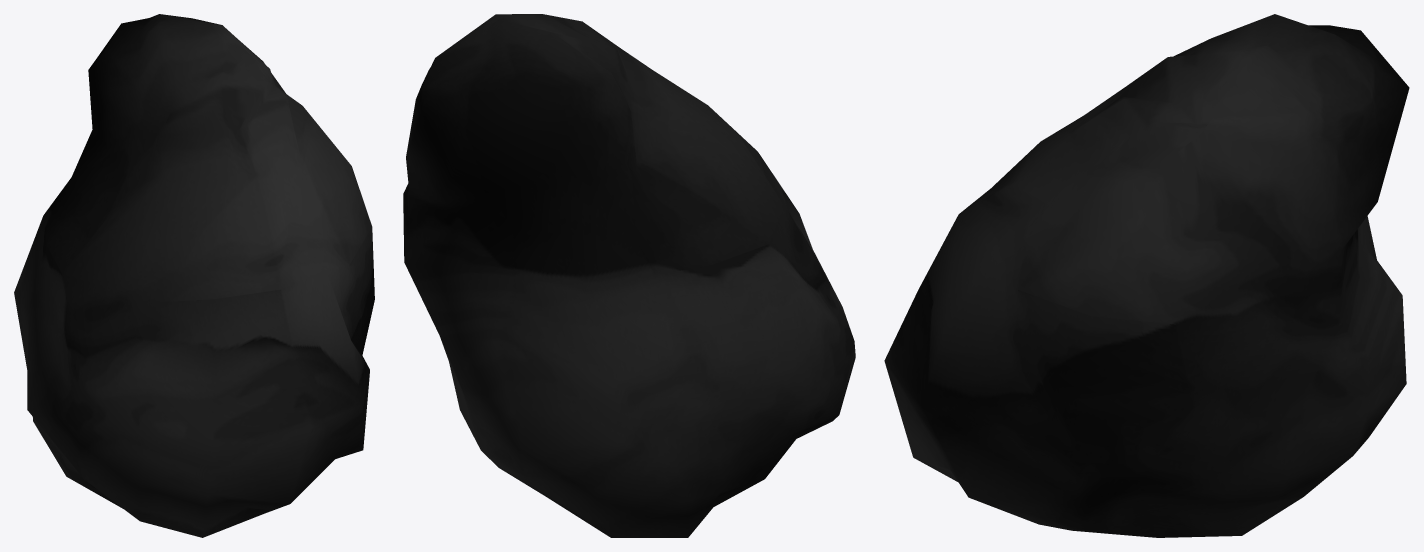
File: 04-Rock.fbx
3 views of the same model, side by side, from view 1: azimuth 30°, elevation 25°; view 2: azimuth 150°, elevation 25°; view 3: azimuth 270°, elevation 25° (orthographic). The views are drawn at different scales.
Parts seen in each view (by area): view 1: 04-CoralRock.045; view 2: 04-CoralRock.045; view 3: 04-CoralRock.045.
Boxes of the visible parts, x1,y1,x2,y2 form: 04-CoralRock.045: (14, 14, 374, 537); 04-CoralRock.045: (403, 14, 855, 537); 04-CoralRock.045: (884, 14, 1409, 537).
Size of the model in its own units: 254 by 315 by 283.
